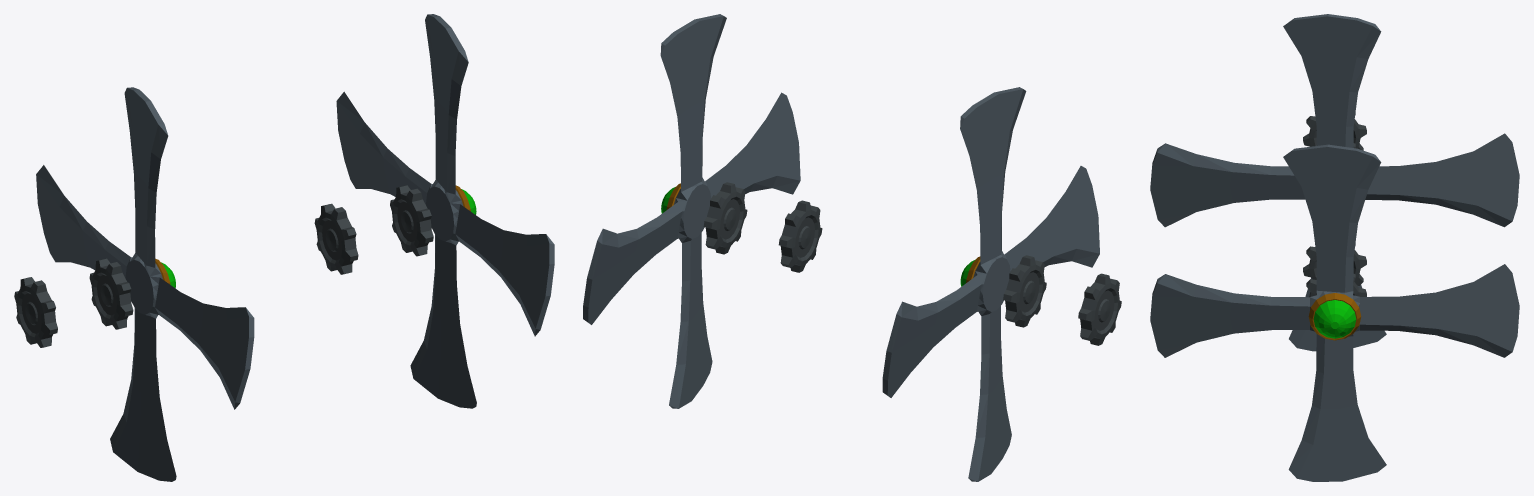
Rendered from HeliceP_L.obj.
3 views of the same model, side by side, from view 1: azimuth 30°, elevation 25°; view 2: azimuth 150°, elevation 25°; view 3: azimuth 270°, elevation 25° (orthographic). The views are drawn at different scales.
Visible parts, largest first — view 1: Helices_Pequenas_L_Sphere.006; view 2: Helices_Pequenas_L_Sphere.006; view 3: Helices_Pequenas_L_Sphere.006.
Boxes of the visible parts, <box> form: Helices_Pequenas_L_Sphere.006: <box>14,14,554,481</box>; Helices_Pequenas_L_Sphere.006: <box>583,14,1121,481</box>; Helices_Pequenas_L_Sphere.006: <box>1150,14,1519,481</box>.
Bounding box in the file's own units: 2.95 × 2.39 × 2.39.
Materials: 1 (1 with a texture image).
